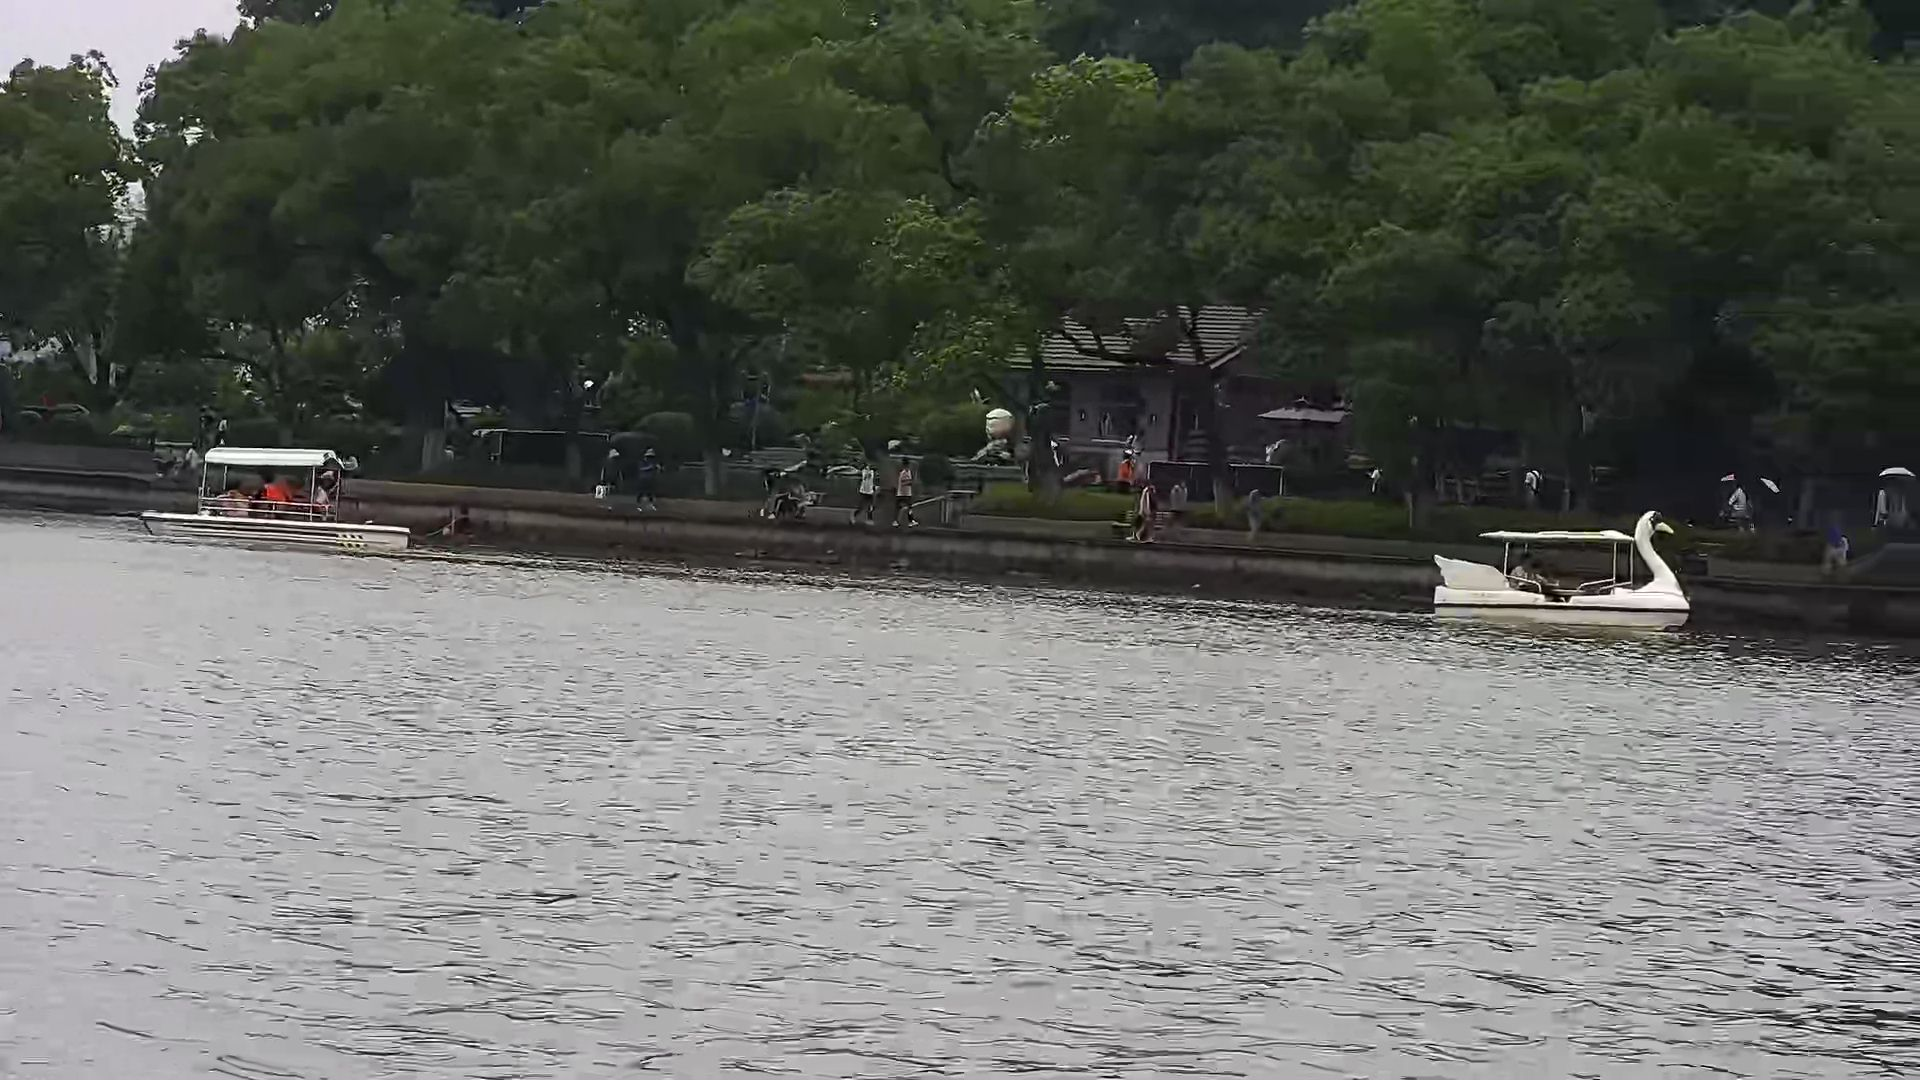boat: (1396, 491, 1718, 638), (127, 431, 422, 568)
